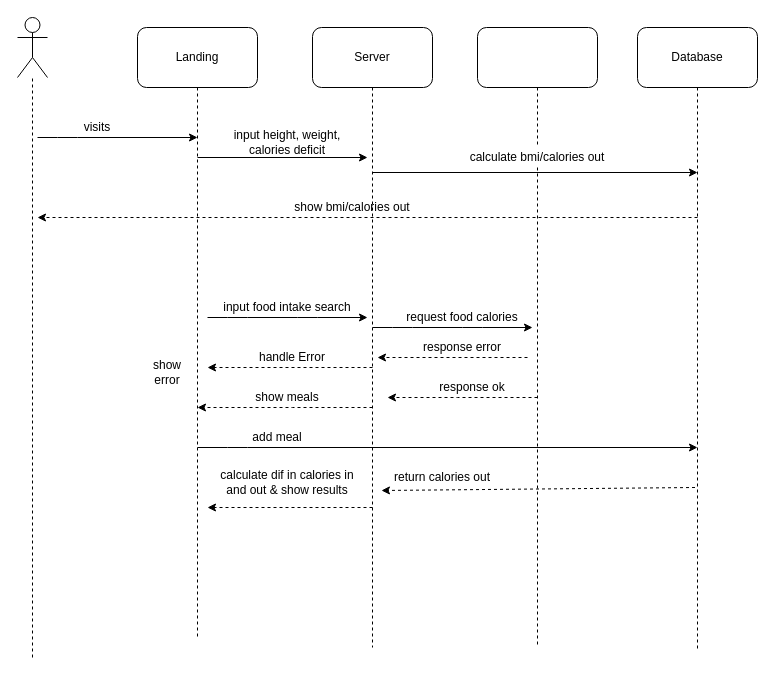
The diagram is 775 pixels wide and 676 high, and some of its shapes have lost their labels. Each missing label, with the centre of its shape:
"Actor" goes at point (32, 47).
"Spoonacular API" goes at point (537, 57).
